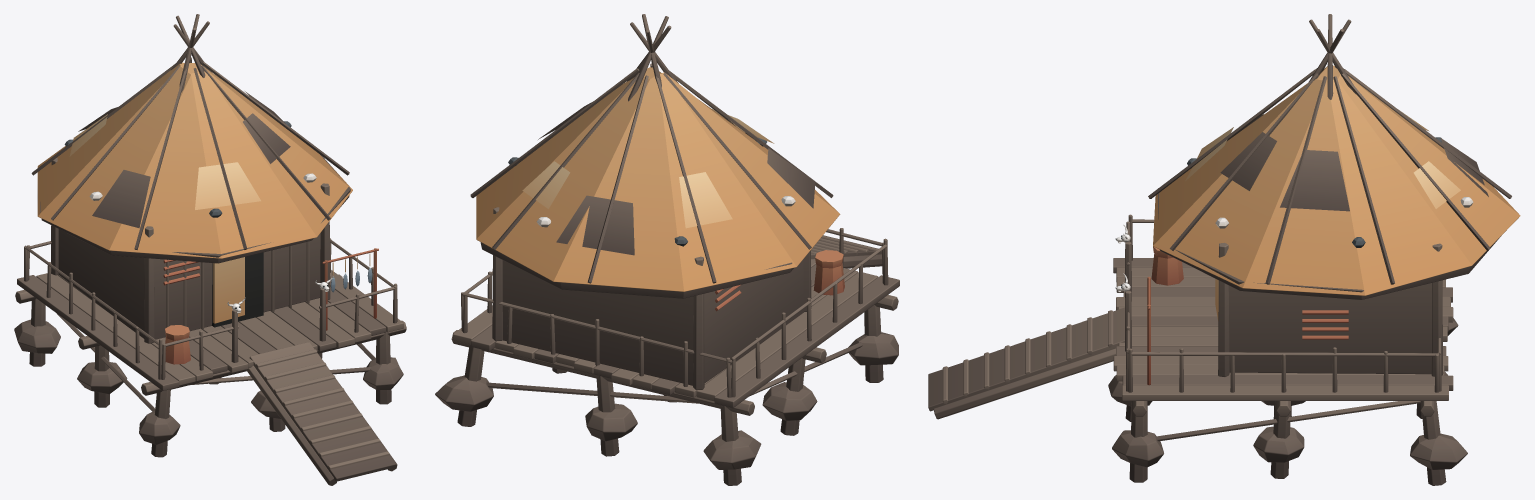
Rendered from murk_hut.glb.
3 renders of one model, left to right at view 1: azimuth 30°, elevation 25°; view 2: azimuth 150°, elevation 25°; view 3: azimuth 270°, elevation 25°, orthographic. The views are drawn at different scales.
Visible parts, largest first — view 1: murk_hut; view 2: murk_hut; view 3: murk_hut.
Part boxes in pixels (x1,y1,x2,y2): murk_hut: (14,14,406,485); murk_hut: (435,14,899,485); murk_hut: (928,14,1520,485).
Size of the model in its own units: 7.93 by 9.44 by 12.76.
1 material, 1 textured.
